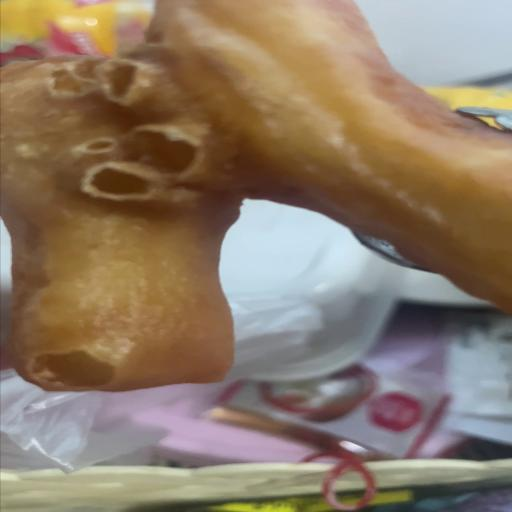street_burnt_defect: (0, 0, 508, 386)
